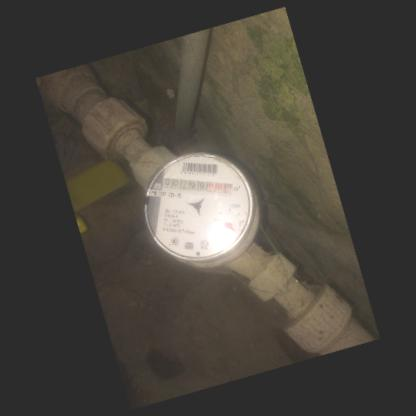digital_screen: (161, 174, 206, 194)
